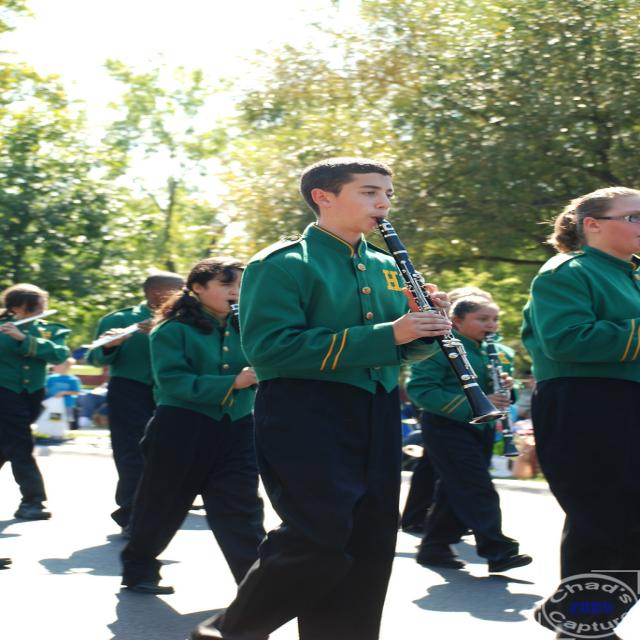clarinet: (374, 217, 508, 428), (480, 340, 524, 460), (226, 298, 246, 332)
